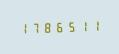eight: (41, 20, 52, 34)
five: (65, 19, 76, 33)
one: (17, 21, 28, 35), (89, 18, 100, 32), (77, 19, 88, 32)
seven: (29, 21, 40, 34)
six: (53, 20, 64, 33)
